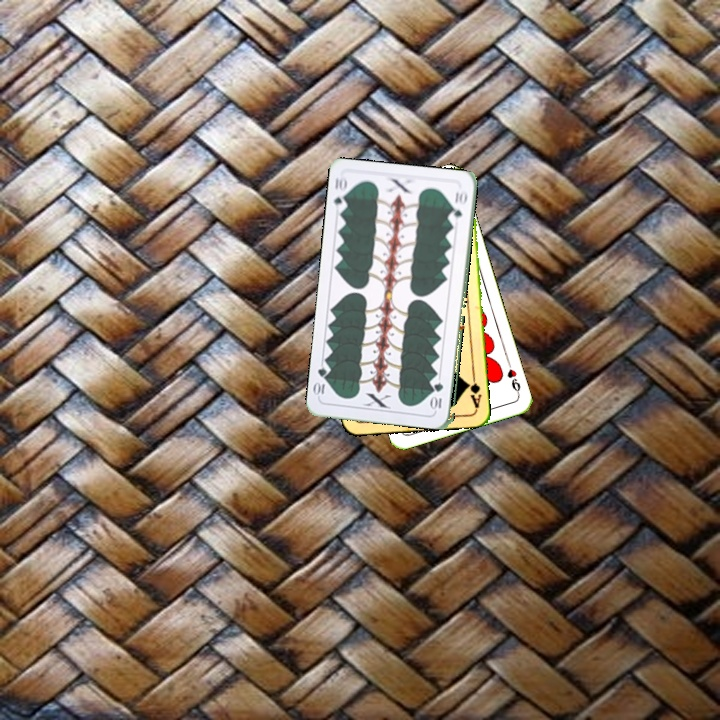G10: (330, 173, 350, 214), (430, 379, 446, 413)
GA: (463, 370, 484, 411)
H9: (503, 358, 523, 398)
